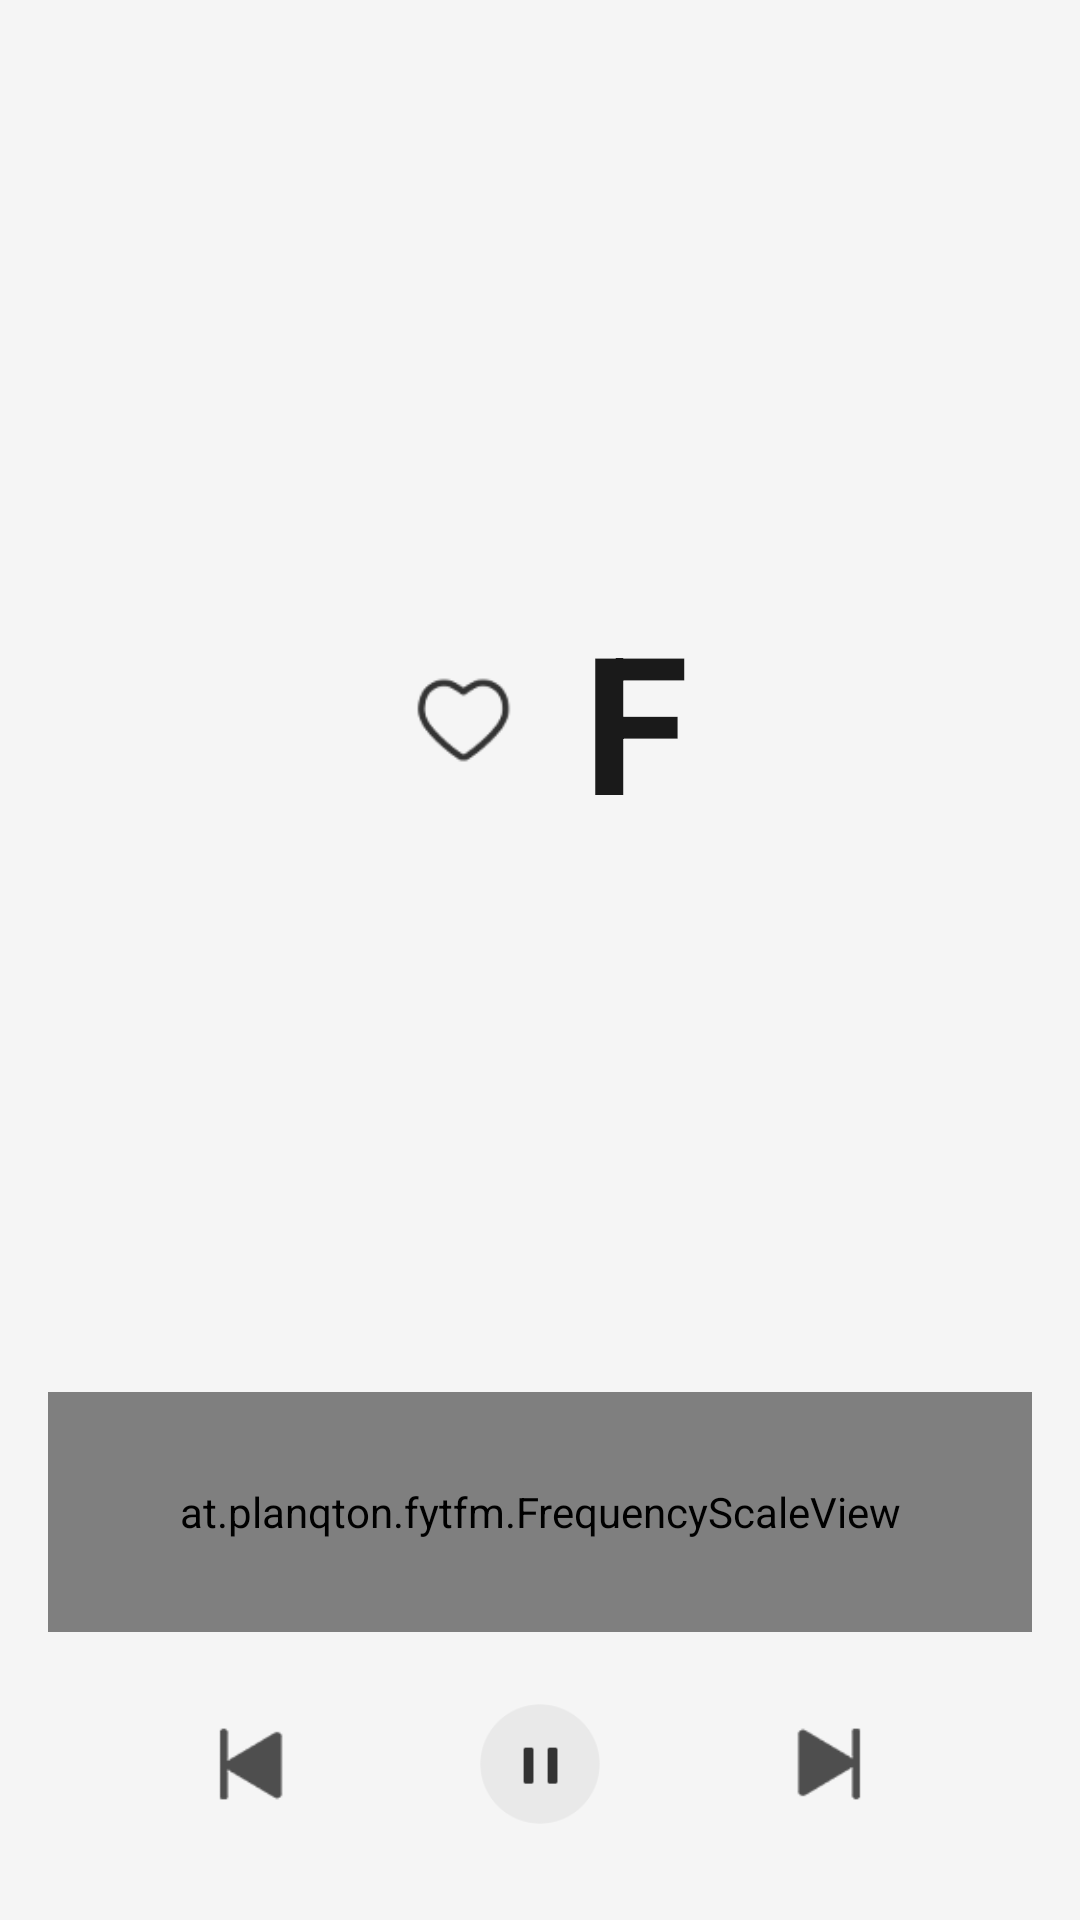

Icons on this 1080px×1920px Android screen, each with the point to tap as point (x, y):
Favorite: point (463, 720)
Play/Pause: point (540, 1765)
Skip next: point (829, 1764)
Skip previous: point (251, 1764)
